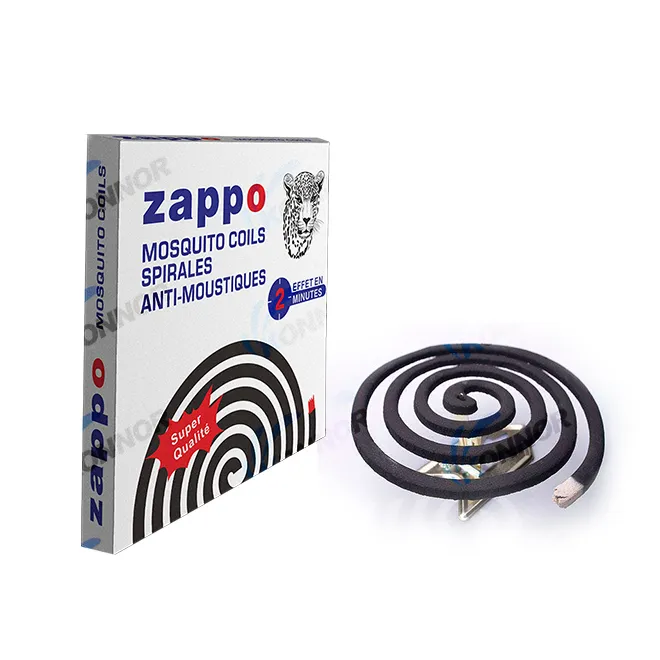Open-Flame-Hazard: (340, 334, 613, 540)
